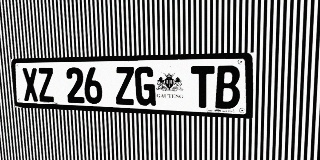2: (66, 67, 85, 103)
6: (83, 67, 103, 104)
B: (215, 65, 240, 109)
G: (135, 66, 156, 106)
T: (191, 66, 215, 108)
X: (22, 68, 39, 102)
Z: (115, 67, 135, 105), (37, 68, 55, 102)
